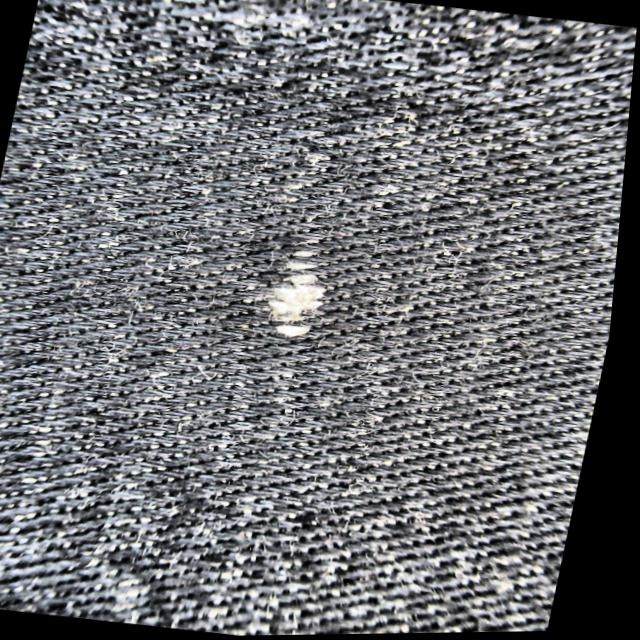Hole: (263, 241, 334, 344)
